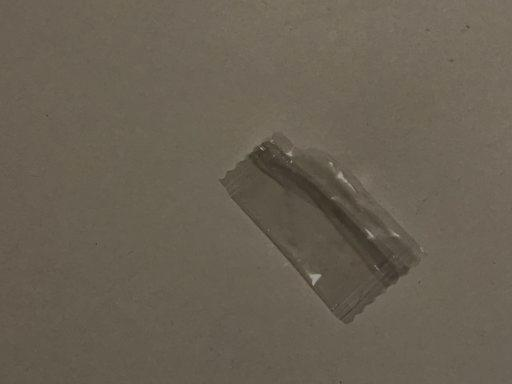trash: (220, 131, 424, 325)
